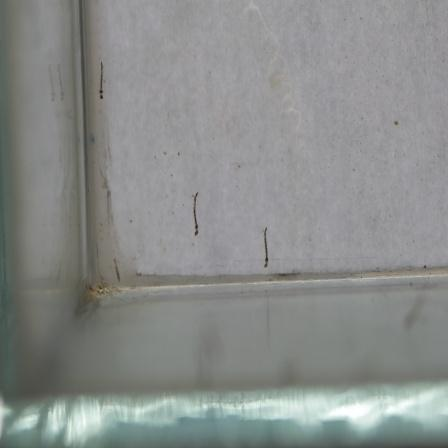Jentik-Nyamuk: (258, 223, 275, 271), (188, 186, 202, 239), (94, 58, 107, 104)
